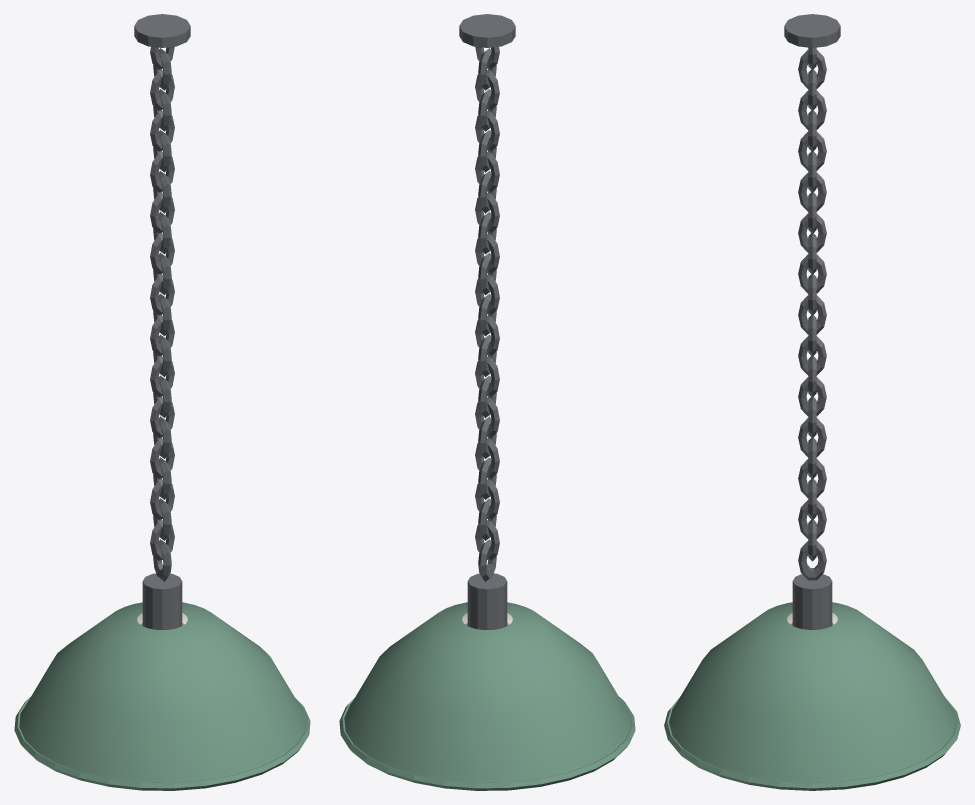
The model's file is Garage_Lamp.glb.
The picture shows the model from 3 angles, left to right: view 1: azimuth 30°, elevation 25°; view 2: azimuth 150°, elevation 25°; view 3: azimuth 270°, elevation 25°; orthographic projection.
Visible parts, largest first — view 1: Garage_Lamp; view 2: Garage_Lamp; view 3: Garage_Lamp.
Boxes of the visible parts, box(x1,y1,x2,y2) form: Garage_Lamp: box(14, 14, 310, 790); Garage_Lamp: box(339, 14, 635, 790); Garage_Lamp: box(664, 14, 960, 790).
Size of the model in its own units: 0.526 by 1.38 by 0.526.
